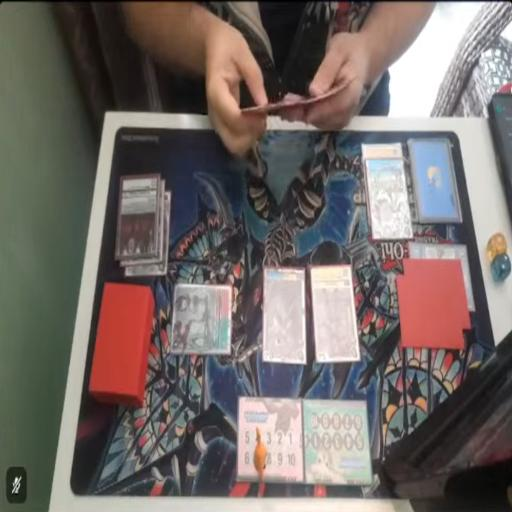card: (309, 264, 362, 363), (408, 243, 476, 313), (170, 283, 232, 355), (262, 264, 306, 363), (115, 172, 159, 260), (364, 155, 408, 238), (361, 142, 402, 168), (125, 259, 167, 277)
